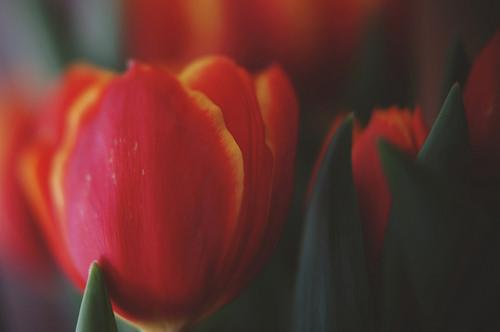tulip: (37, 56, 294, 327)
